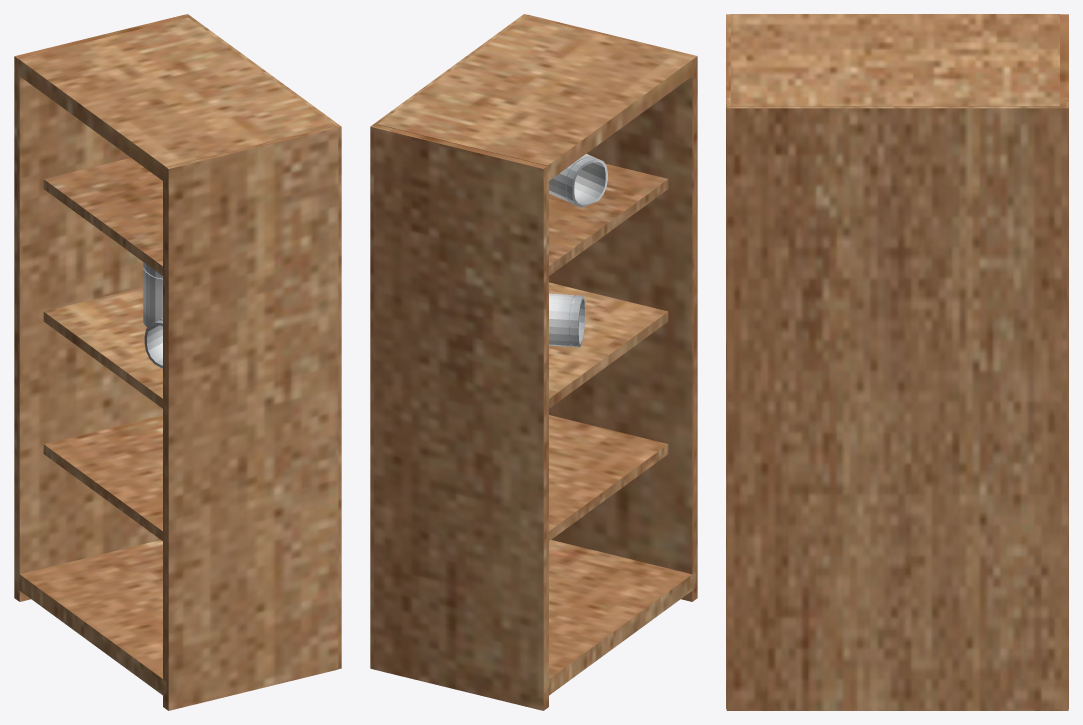
File: pantry.fbx
The picture shows the model from 3 angles, left to right: view 1: azimuth 30°, elevation 25°; view 2: azimuth 150°, elevation 25°; view 3: azimuth 270°, elevation 25°; orthographic projection. The views are drawn at different scales.
Visible parts, largest first — view 1: pantry, can.001, can.002; view 2: pantry, can.003, can.002; view 3: pantry.
Boxes of the visible parts, x1=… form: pantry: x1=14, y1=14, x2=341, y2=710; can.001: x1=143, y1=262, x2=162, y2=327; can.002: x1=144, y1=317, x2=162, y2=368; pantry: x1=370, y1=14, x2=697, y2=710; can.003: x1=549, y1=154, x2=607, y2=207; can.002: x1=549, y1=293, x2=585, y2=347; pantry: x1=726, y1=14, x2=1068, y2=710.
Size of the model in its own units: 325 by 972 by 501.
